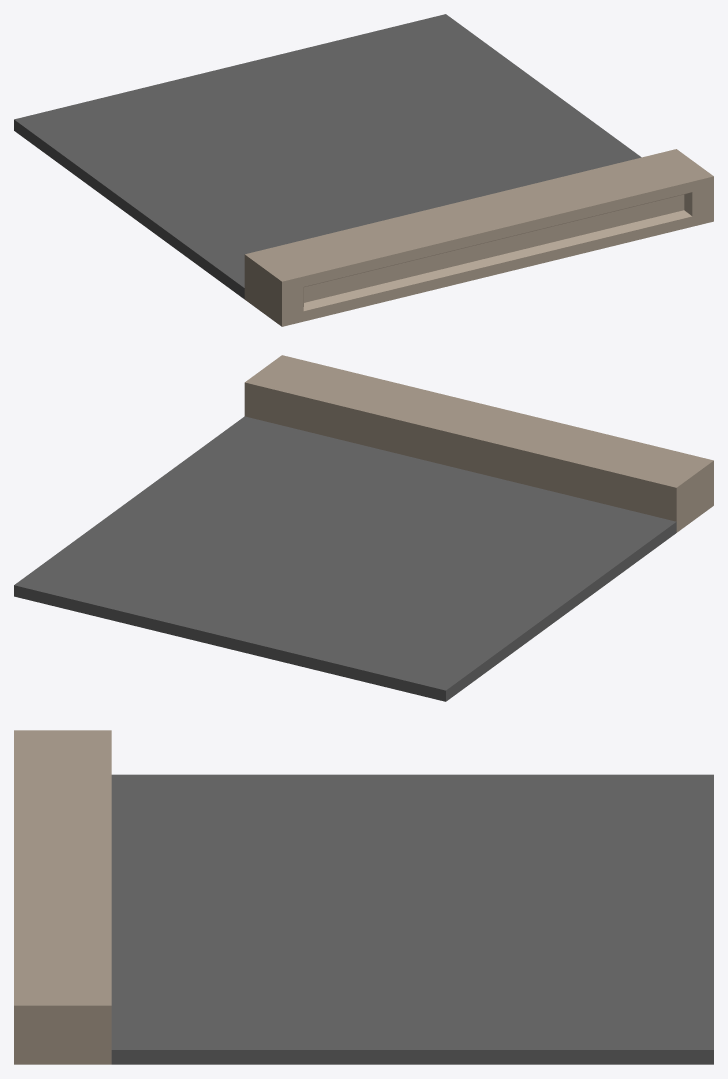
Rendered from roof_4x4_1sided.fbx.
The picture shows the model from 3 angles, top to bottom: view 1: azimuth 30°, elevation 25°; view 2: azimuth 150°, elevation 25°; view 3: azimuth 270°, elevation 25°; orthographic projection. The views are drawn at different scales.
Visible parts, largest first — view 1: Cube; view 2: Cube; view 3: Cube.
Part boxes in pixels (box(x1,y1,x2,y2)): Cube: box(14, 14, 713, 326); Cube: box(14, 355, 713, 701); Cube: box(14, 730, 713, 1064).
Bounding box in the file's own units: 400 × 40 × 430.
